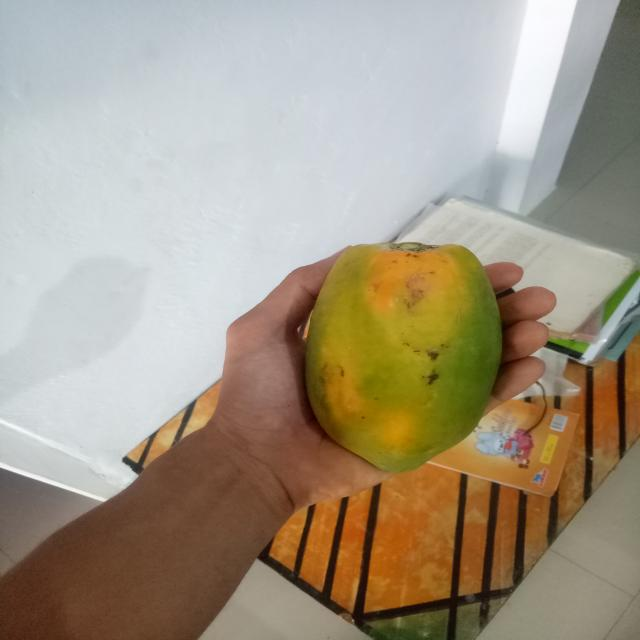Pepaya rippen: (296, 232, 498, 479)
